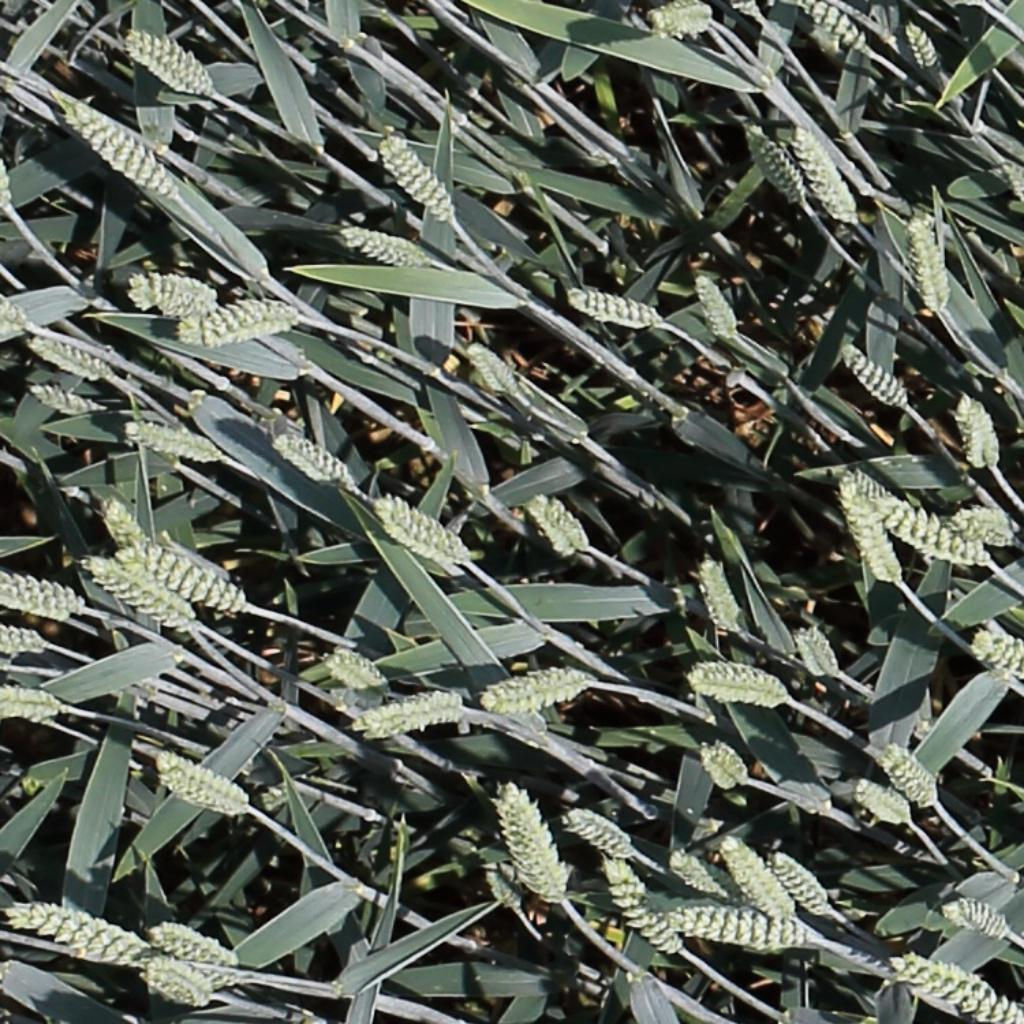0-0: (55, 91, 177, 196), (0, 899, 158, 971), (80, 555, 203, 634), (494, 783, 571, 906), (872, 493, 992, 568), (599, 853, 681, 958), (111, 548, 245, 611), (833, 478, 904, 586), (789, 127, 863, 230), (715, 832, 800, 921), (374, 129, 454, 221), (475, 662, 599, 719), (177, 300, 305, 354), (152, 750, 250, 820), (668, 902, 818, 947), (348, 689, 468, 743), (372, 496, 465, 561), (684, 656, 793, 711), (121, 30, 211, 92), (270, 432, 360, 493), (743, 120, 806, 206), (142, 919, 239, 972), (836, 339, 909, 409), (767, 849, 836, 921), (520, 490, 593, 558), (122, 418, 223, 465), (686, 264, 741, 346), (128, 272, 222, 319), (563, 288, 661, 333), (906, 211, 948, 315), (24, 333, 111, 382), (955, 389, 1003, 475), (0, 574, 87, 621), (875, 745, 939, 808), (562, 807, 638, 860), (138, 957, 212, 1011), (319, 645, 391, 699), (797, 0, 868, 54), (694, 554, 740, 637), (338, 223, 425, 266), (96, 491, 148, 562), (465, 341, 523, 402), (937, 897, 1010, 941), (950, 503, 1018, 550), (791, 622, 841, 684), (664, 849, 723, 897), (0, 682, 68, 723), (970, 628, 1024, 678), (849, 777, 909, 821), (694, 744, 748, 791), (649, 1, 715, 39), (27, 382, 100, 415), (902, 19, 943, 71), (484, 868, 525, 914), (0, 623, 51, 659), (1, 288, 33, 340), (995, 151, 1024, 206), (0, 148, 14, 218), (726, 0, 764, 21)
